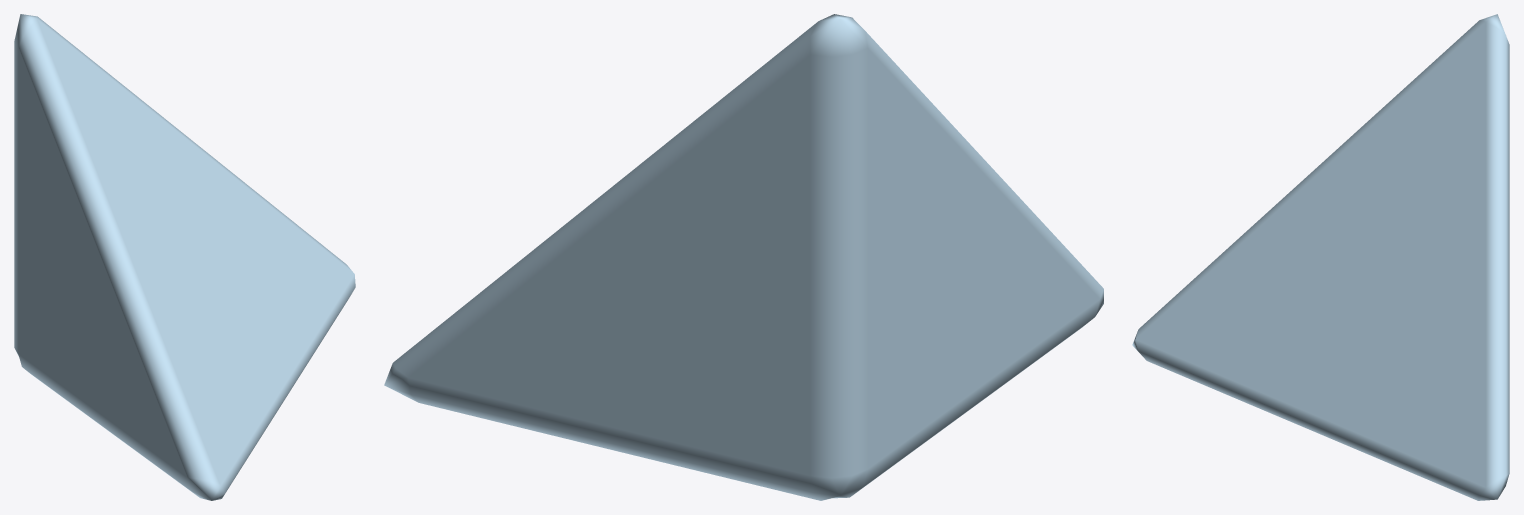
File: R4B_Tetra.glb
The picture shows the model from 3 angles, left to right: view 1: azimuth 30°, elevation 25°; view 2: azimuth 150°, elevation 25°; view 3: azimuth 270°, elevation 25°; orthographic projection. The views are drawn at different scales.
Visible parts, largest first — view 1: R4B_Tetra; view 2: R4B_Tetra; view 3: R4B_Tetra.
Boxes of the visible parts, bbox=[...] form: R4B_Tetra: bbox=[14, 14, 355, 500]; R4B_Tetra: bbox=[384, 14, 1103, 500]; R4B_Tetra: bbox=[1132, 14, 1509, 500].
Size of the model in its own units: 0.4656 by 0.4656 by 0.4656.
